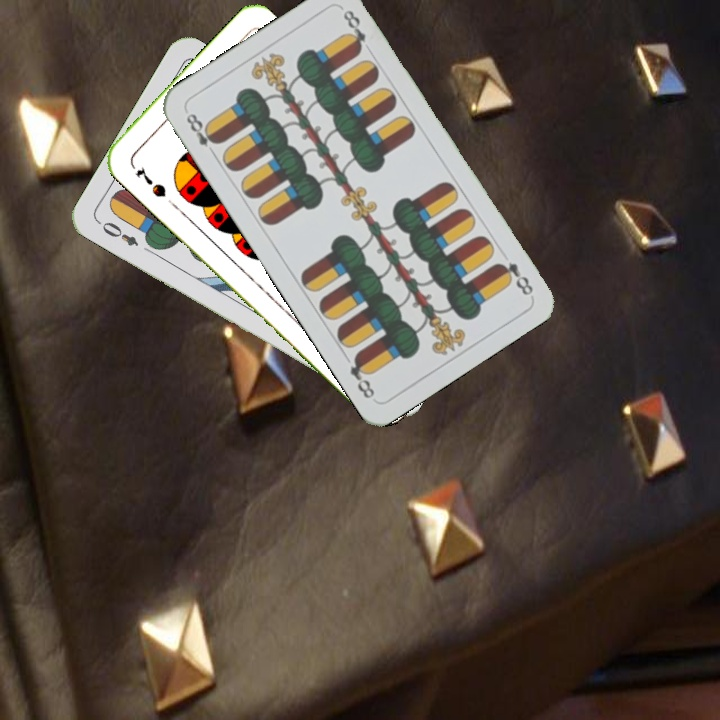E8: (182, 109, 222, 160), (493, 258, 536, 298)
EO: (98, 217, 141, 249)
S7: (131, 163, 169, 200)
